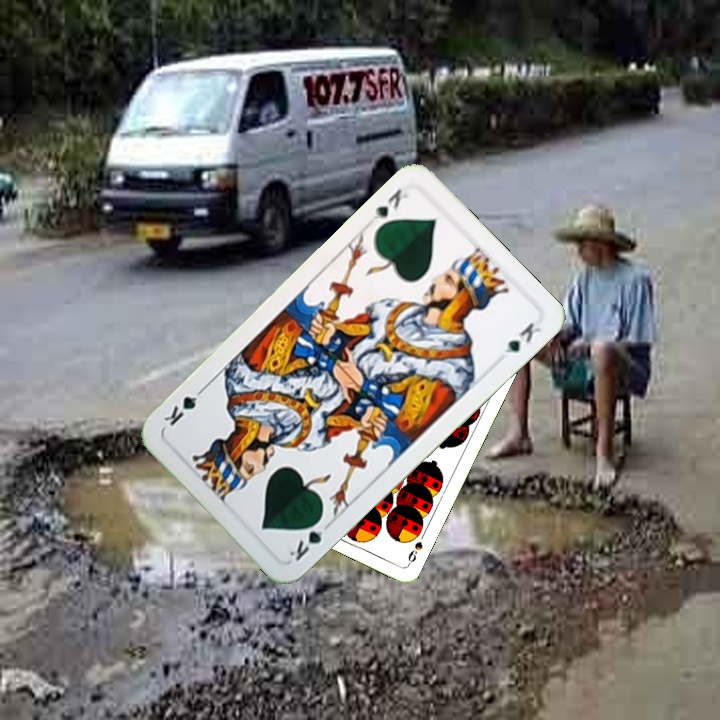GK: (285, 513, 334, 564), (369, 184, 411, 224)
S9: (404, 537, 425, 568)
